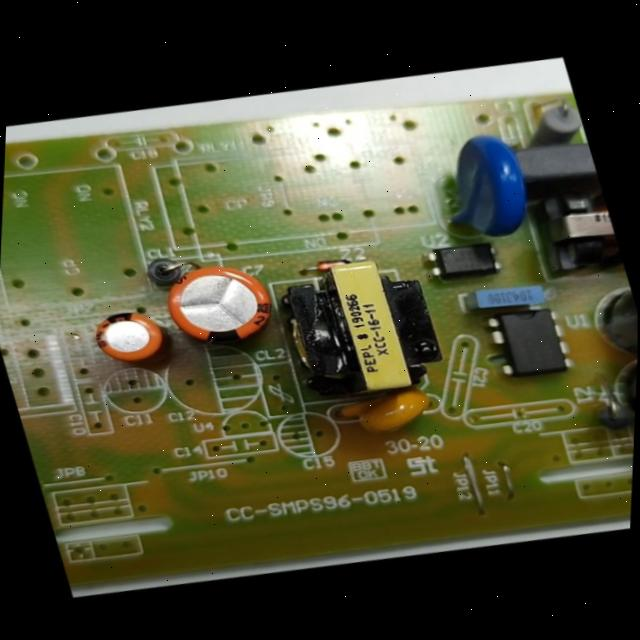Cap1: (145, 246, 298, 361)
Cap2: (78, 299, 184, 375)
Cap3: (577, 270, 638, 368)
Cap4: (596, 343, 637, 438)
MOSFET: (476, 294, 588, 387)
Mov: (412, 120, 555, 253)
Resistor: (511, 93, 591, 158)
Transformer: (256, 241, 464, 414), (508, 176, 630, 290)
